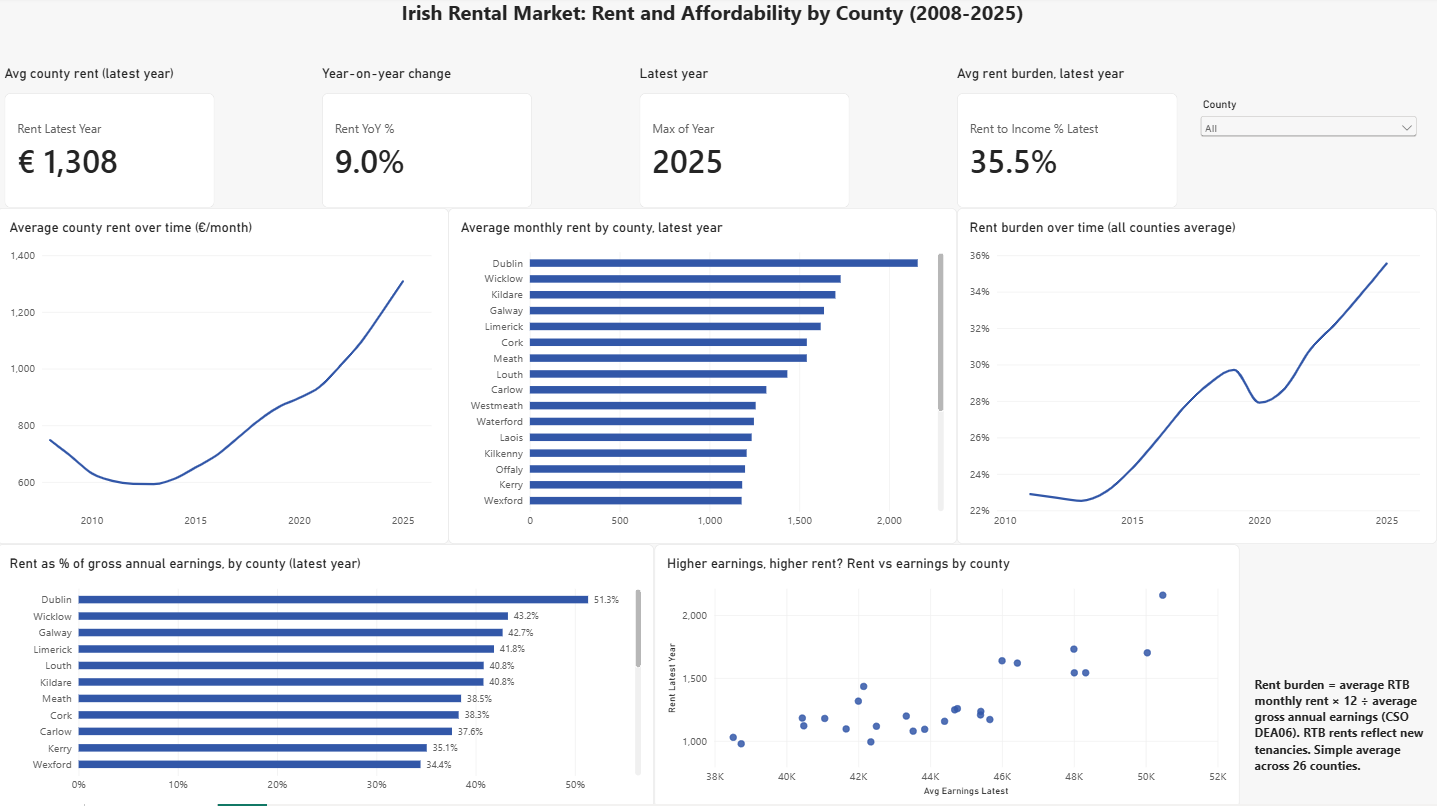

The page's visual inventory and layout, read from the dashboard file:
{"tool":"powerbi","page":{"name":"Page 1","canvas":[1920,1080],"ordinal":0},"visuals":[{"type":"cardVisual","title":"Avg county rent (latest year)","fields":{"Data":["Rent.Rent Latest Year"]},"box":[10,90,280,190],"z":0},{"type":"cardVisual","title":"Year-on-year change","fields":{"Data":["Rent.Rent YoY %"]},"box":[434,90,280,190],"z":1},{"type":"cardVisual","title":"Latest year","fields":{"Data":["Max(Rent.Year)"]},"box":[856,90,280,190],"z":2},{"type":"lineChart","title":"Average county rent over time (€/month)","fields":{"Category":["Rent.Year"],"Y":["Rent.Avg Rent"]},"box":[0,280,602,448],"z":3},{"type":"clusteredBarChart","title":"Average monthly rent by county, latest year","fields":{"Category":["Rent.Location"],"Y":["Rent.Rent Latest Year"]},"box":[602,280,678,448],"z":4},{"type":"clusteredBarChart","title":"Rent as % of gross annual earnings, by county (latest year)","fields":{"Category":["Counties.County"],"Y":["Rent.Rent to Income % Latest"]},"box":[0,728,876,352],"z":6},{"type":"scatterChart","title":"Higher earnings, higher rent? Rent vs earnings by county","fields":{"Category":["Counties.County"],"X":["Rent.Avg Earnings Latest"],"Y":["Rent.Rent Latest Year"]},"box":[876,728,780,352],"z":7},{"type":"lineChart","title":"Rent burden over time (all counties average)","fields":{"Category":["Years.Year"],"Y":["Rent.Rent to Income %"]},"box":[1280,280,640,448],"z":8},{"type":"cardVisual","title":"Avg rent burden, latest year","fields":{"Data":["Rent.Rent to Income % Latest"]},"box":[1280,90,294,190],"z":9},{"type":"slicer","fields":{"Values":["Counties.County"]},"box":[1600,134,298,104],"z":10},{"type":"textbox","box":[1676,904,244,160],"z":12},{"type":"textbox","box":[10,0,1888,90],"z":14}]}

Visuals, with their boxes in screenshot pixels (x1, y1, x2, y2), scaled from the page's 1920x1080 canvas onto the 1437x806 screenshot:
"Avg county rent (latest year)" cardVisual: [7,67,217,209]
"Year-on-year change" cardVisual: [325,67,534,209]
"Latest year" cardVisual: [641,67,850,209]
"Average county rent over time (€/month)" lineChart: [0,209,451,543]
"Average monthly rent by county, latest year" clusteredBarChart: [451,209,958,543]
"Rent as % of gross annual earnings, by county (latest year)" clusteredBarChart: [0,543,656,805]
"Higher earnings, higher rent? Rent vs earnings by county" scatterChart: [656,543,1239,805]
"Rent burden over time (all counties average)" lineChart: [958,209,1436,543]
"Avg rent burden, latest year" cardVisual: [958,67,1178,209]
slicer - Counties.County: [1198,100,1421,178]
textbox: [1254,675,1436,794]
textbox: [7,0,1421,67]
